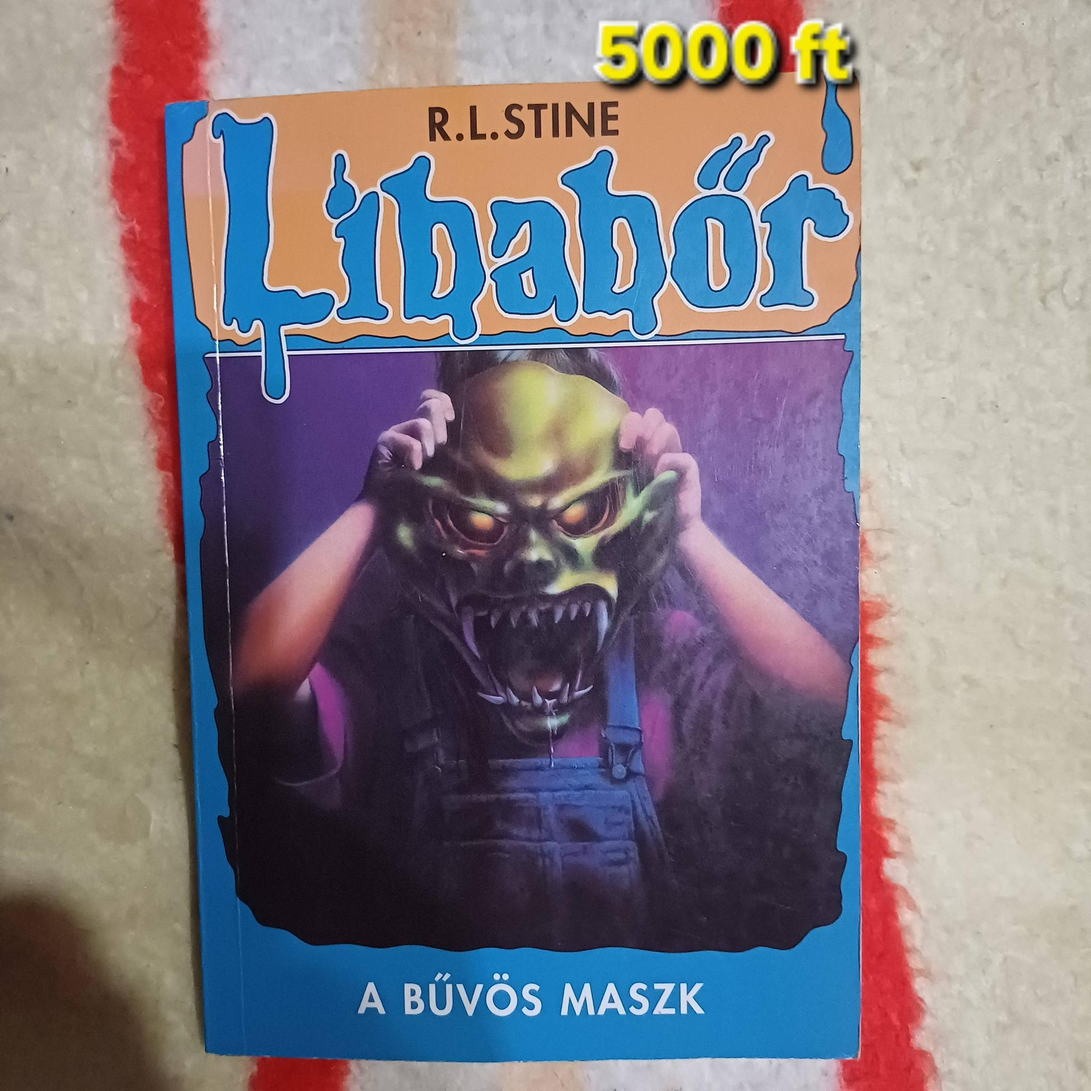comic: (167, 78, 877, 1070)
